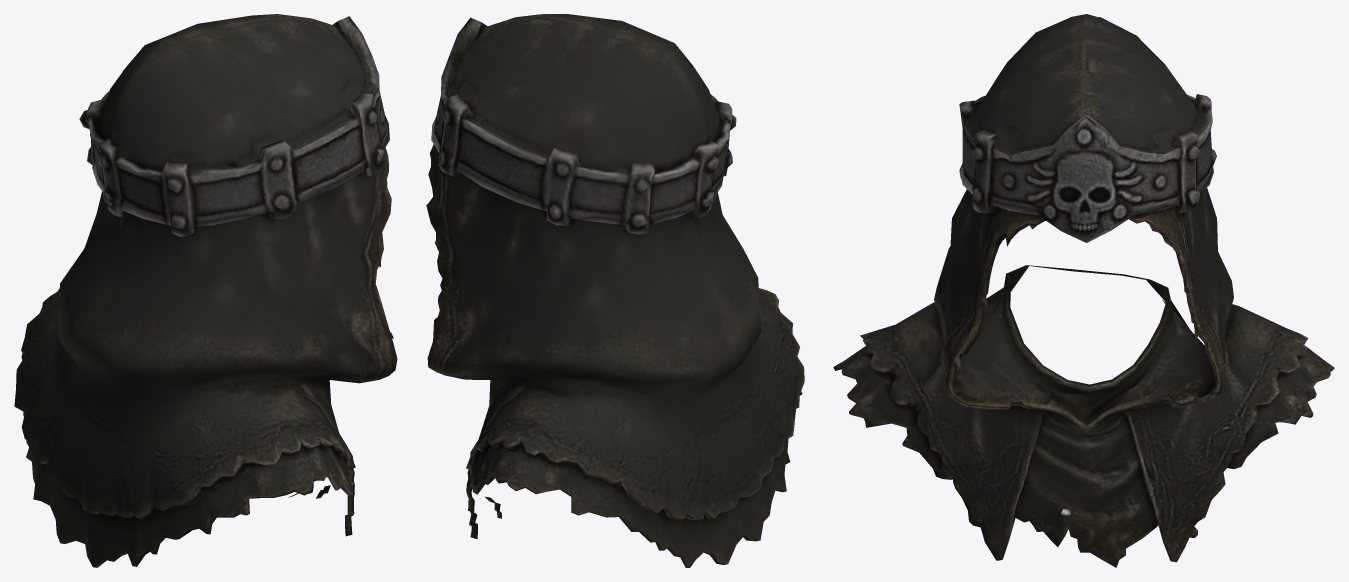
Rendered from necro_helm_iron.glb.
The picture shows the model from 3 angles, left to right: view 1: azimuth 30°, elevation 25°; view 2: azimuth 150°, elevation 25°; view 3: azimuth 270°, elevation 25°; orthographic projection. The views are drawn at different scales.
Parts seen in each view (by area): view 1: tripo_node_a1a4b4a2-9114-46f2-886a-54313d8f9c6c; view 2: tripo_node_a1a4b4a2-9114-46f2-886a-54313d8f9c6c; view 3: tripo_node_a1a4b4a2-9114-46f2-886a-54313d8f9c6c.
Boxes of the visible parts, bbox=[...] form: tripo_node_a1a4b4a2-9114-46f2-886a-54313d8f9c6c: bbox=[14, 14, 397, 567]; tripo_node_a1a4b4a2-9114-46f2-886a-54313d8f9c6c: bbox=[426, 14, 804, 567]; tripo_node_a1a4b4a2-9114-46f2-886a-54313d8f9c6c: bbox=[833, 14, 1334, 567].
Bounding box in the file's own units: 0.6269 × 0.998 × 0.9238.
1 material, 1 textured.
